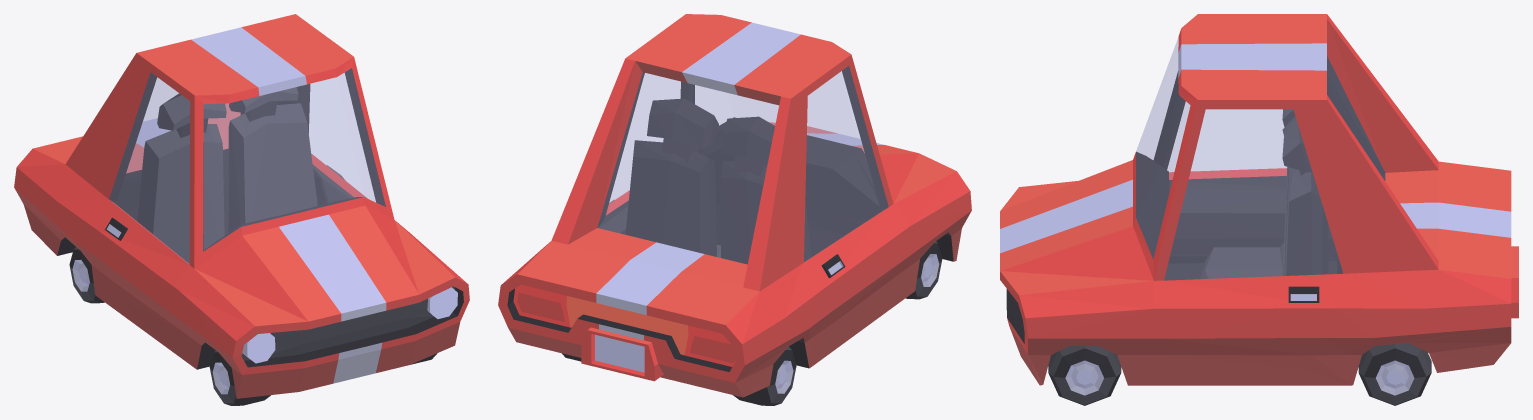
The model's file is flash-racer-red.glb.
The picture shows the model from 3 angles, left to right: view 1: azimuth 30°, elevation 25°; view 2: azimuth 150°, elevation 25°; view 3: azimuth 270°, elevation 25°; orthographic projection. The views are drawn at different scales.
Parts seen in each view (by area): view 1: Car03_1_Racing, Car03_1_DR.002, Car03_1_DL.002, Car03_1_WhFR.002, Car03_1_WhBR.002; view 2: Car03_1_Racing, Car03_1_DR.002, Car03_1_DL.002, Car03_1_WhBR.002, Car03_1_WhFR.002; view 3: Car03_1_Racing, Car03_1_DL.002, Car03_1_DR.002, Car03_1_WhBL.002, Car03_1_WhFL.002.
Boxes of the visible parts, bbox=[...] form: Car03_1_Racing: bbox=[14, 14, 469, 398]; Car03_1_DR.002: bbox=[97, 73, 189, 342]; Car03_1_DL.002: bbox=[309, 73, 375, 202]; Car03_1_WhFR.002: bbox=[209, 350, 270, 405]; Car03_1_WhBR.002: bbox=[69, 247, 104, 303]; Car03_1_Racing: bbox=[498, 14, 971, 397]; Car03_1_DR.002: bbox=[804, 66, 908, 335]; Car03_1_DL.002: bbox=[598, 73, 680, 234]; Car03_1_WhBR.002: bbox=[733, 346, 796, 405]; Car03_1_WhFR.002: bbox=[905, 241, 942, 299]; Car03_1_Racing: bbox=[1000, 14, 1518, 385]; Car03_1_DL.002: bbox=[1163, 109, 1343, 369]; Car03_1_DR.002: bbox=[1167, 102, 1286, 255]; Car03_1_WhBL.002: bbox=[1358, 343, 1431, 405]; Car03_1_WhFL.002: bbox=[1048, 346, 1121, 405].
Bounding box in the file's own units: 2.73 × 2.96 × 4.67.
Materials: 4 (4 with a texture image).
